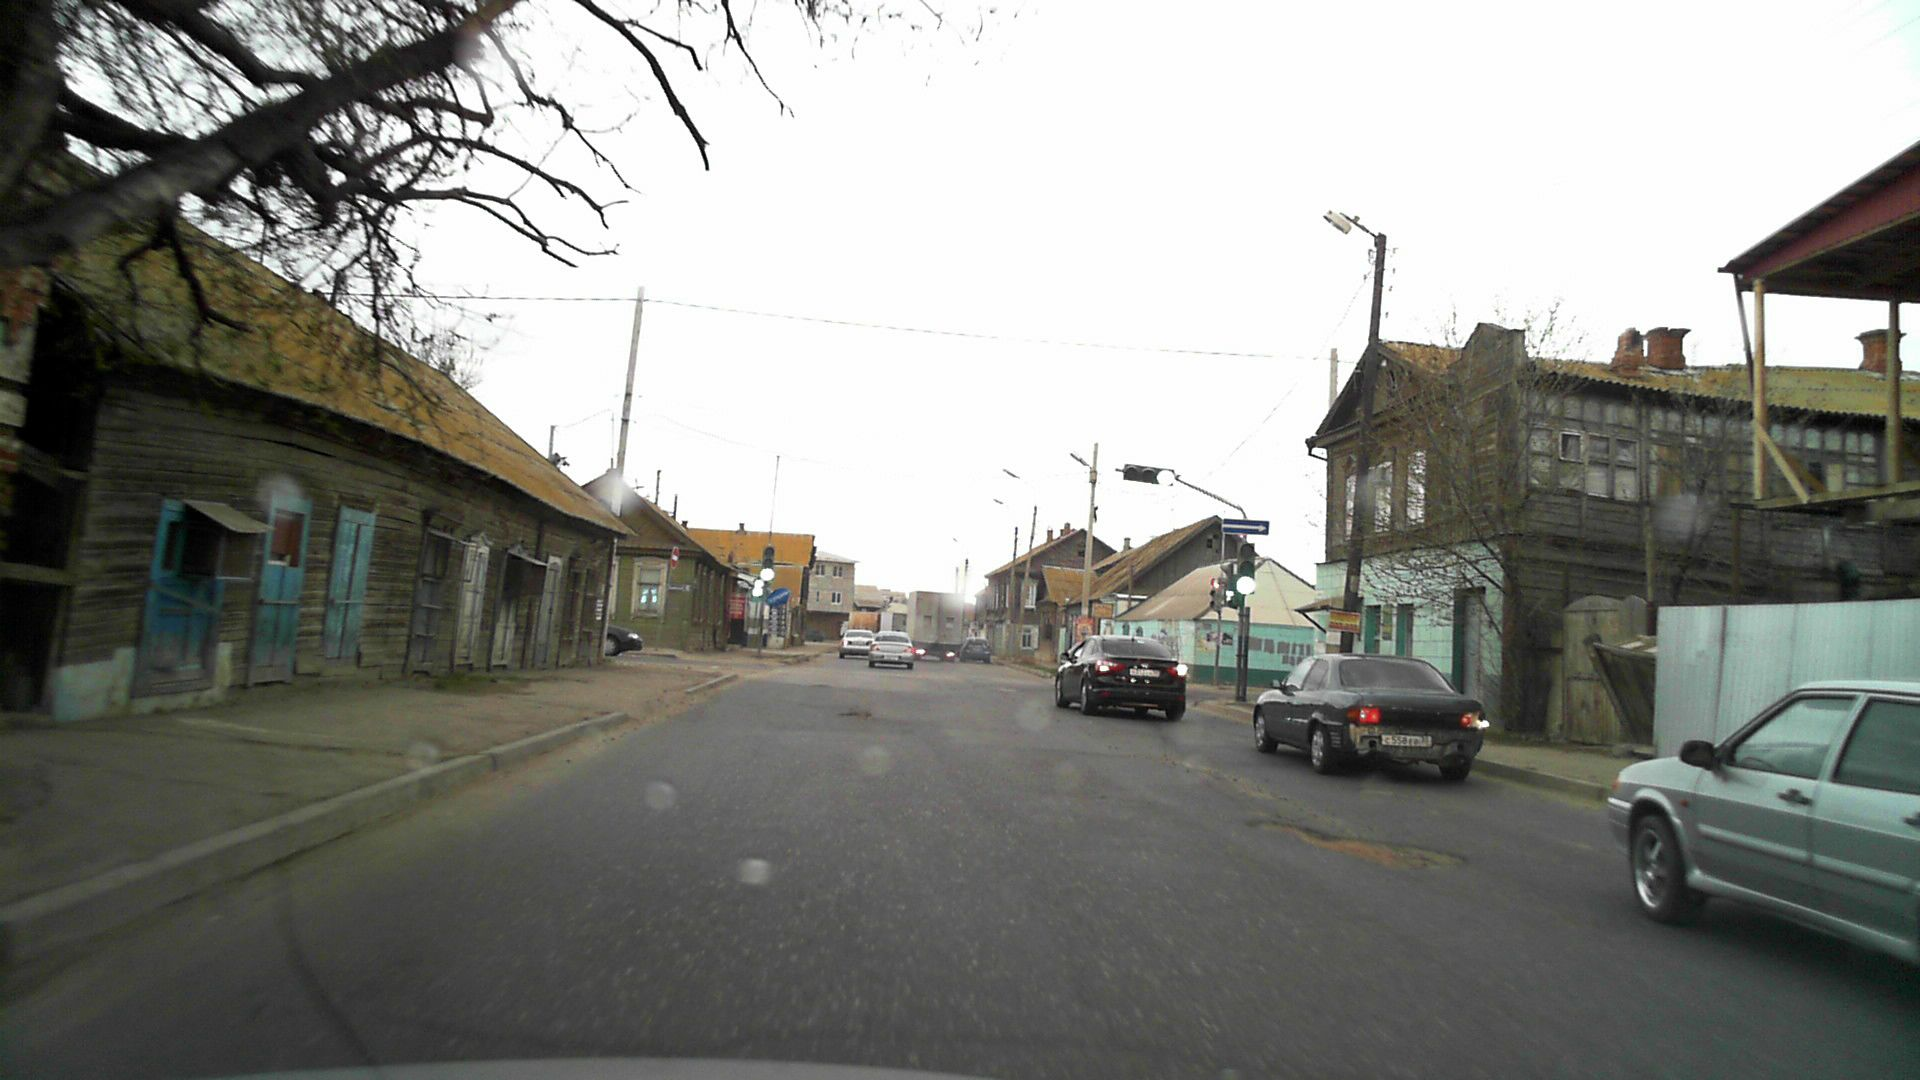One-Way Traffic: (1221, 520, 1270, 535)
